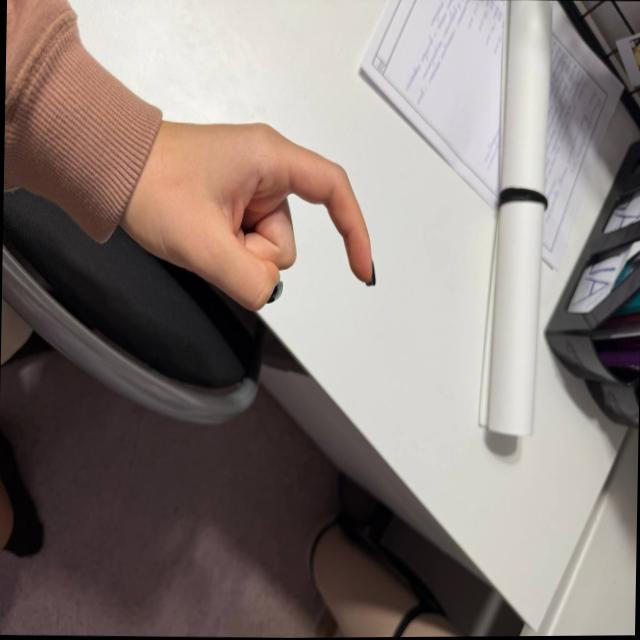kh: (133, 123, 398, 316)
